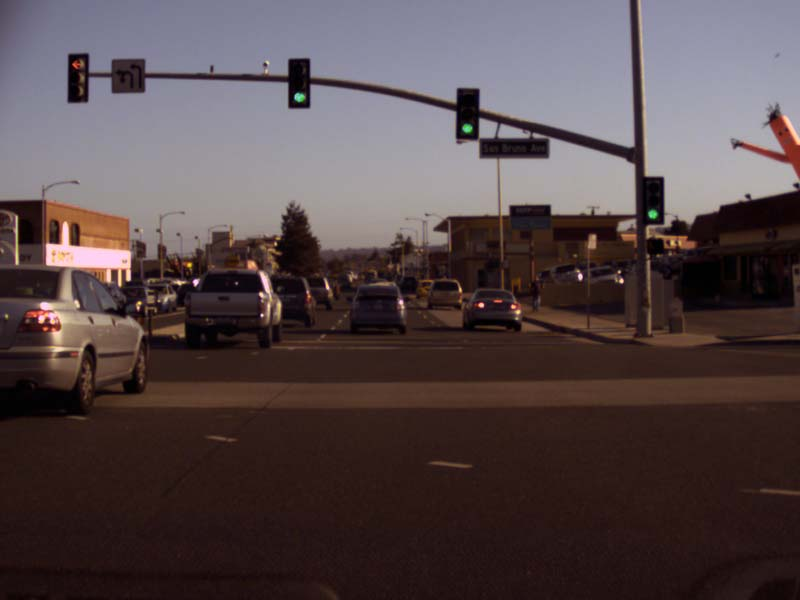Green: (454, 87, 479, 142), (286, 58, 311, 110), (639, 176, 663, 223)
Red: (66, 52, 86, 100)
